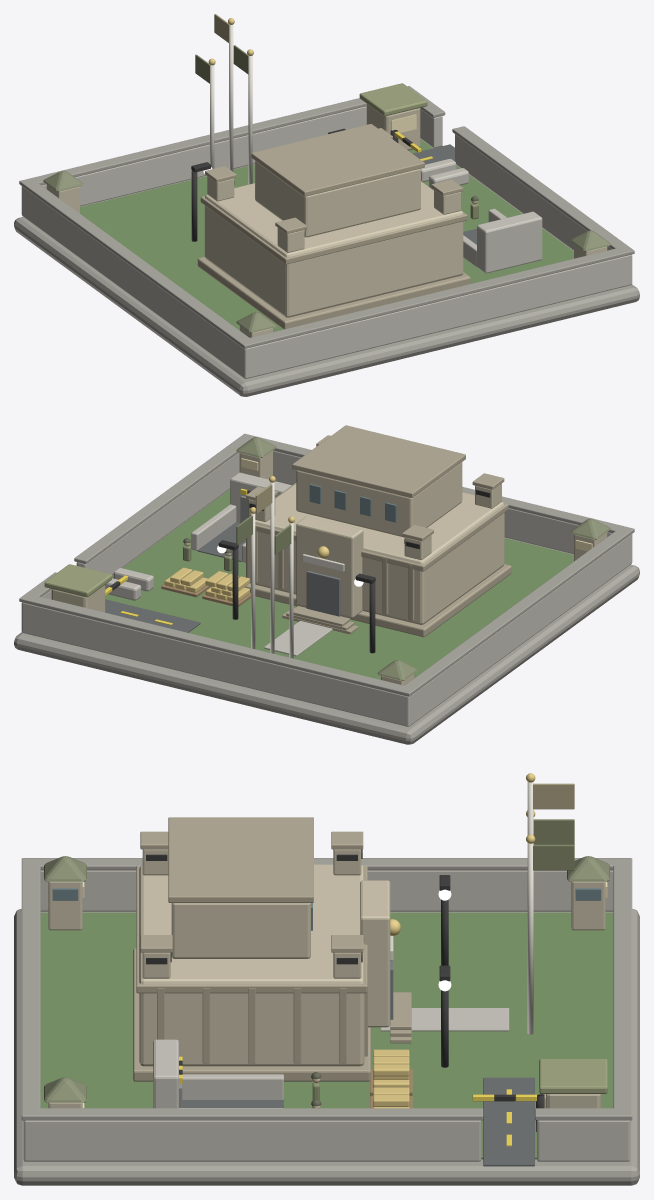
The model's file is goldvault_9.glb.
3 renders of one model, top to bottom at view 1: azimuth 30°, elevation 25°; view 2: azimuth 150°, elevation 25°; view 3: azimuth 270°, elevation 25°, orthographic. The views are drawn at different scales.
Parts seen in each view (by area): view 1: Cube.016, Cube.001, Cube, Cube.099, Cube.037, Cube.097, Cube.036, Cube.101, Cube.100, Cube.105, Cube.102, Cube.015 (+11 smaller); view 2: Cube.001, Cube.016, Cube, Cube.097, Cube.037, Cube.101, Cube.036, Cube.030, Cube.105, Cube.098, Cube.102, Cube.099 (+26 smaller); view 3: Cube.001, Cube.016, Cube, Cube.105, Cube.037, Cube.101, Cube.036, Cube.106, Cube.100, Cube.098, Cube.002, Cube.030 (+33 smaller).
Part boxes in pixels (left/top/right/bottom): Cube.016: left=204, top=181, right=463, bottom=317; Cube.001: left=80, top=139, right=573, bottom=331; Cube: left=14, top=138, right=639, bottom=396; Cube.099: left=240, top=254, right=632, bottom=378; Cube.037: left=251, top=124, right=424, bottom=196; Cube.097: left=21, top=106, right=366, bottom=217; Cube.036: left=255, top=160, right=420, bottom=237; Cube.101: left=24, top=188, right=241, bottom=376; Cube.100: left=238, top=246, right=634, bottom=348; Cube.105: left=455, top=134, right=611, bottom=250; Cube.102: left=22, top=180, right=252, bottom=346; Cube.015: left=197, top=257, right=470, bottom=329; Cube.001: left=105, top=489, right=573, bottom=679; Cube.016: left=246, top=483, right=504, bottom=624; Cube: left=14, top=489, right=639, bottom=744; Cube.097: left=21, top=602, right=413, bottom=726; Cube.037: left=292, top=425, right=465, bottom=497; Cube.101: left=412, top=537, right=627, bottom=724; Cube.036: left=296, top=462, right=462, bottom=537; Cube.030: left=296, top=516, right=363, bottom=617; Cube.105: left=76, top=453, right=239, bottom=574; Cube.098: left=19, top=596, right=415, bottom=696; Cube.102: left=401, top=530, right=631, bottom=693; Cube.099: left=273, top=450, right=632, bottom=565; Cube.001: left=40, top=912, right=613, bottom=1159; Cube.016: left=139, top=864, right=364, bottom=1066; Cube: left=14, top=909, right=639, bottom=1185; Cube.105: left=33, top=1120, right=481, bottom=1161; Cube.037: left=168, top=817, right=313, bottom=902; Cube.101: left=40, top=870, right=613, bottom=911; Cube.036: left=171, top=903, right=310, bottom=958; Cube.106: left=30, top=1108, right=483, bottom=1120; Cube.100: left=21, top=858, right=40, bottom=1120; Cube.098: left=613, top=858, right=632, bottom=1120; Cube.002: left=483, top=1077, right=534, bottom=1166; Cube.030: left=360, top=880, right=390, bottom=1027.
Size of the model in its own units: 2.92 by 1.39 by 2.92.
